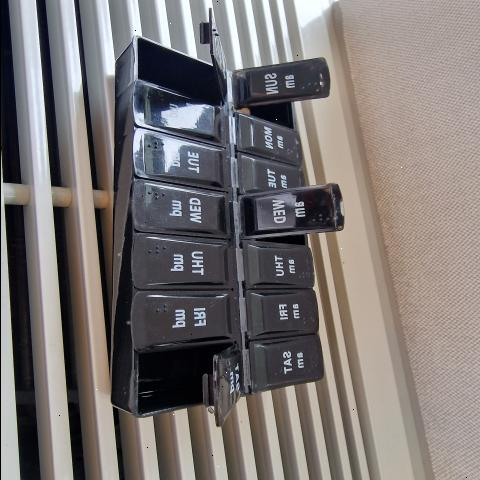Open: (136, 344, 233, 425), (131, 34, 218, 104), (233, 97, 316, 125), (248, 234, 308, 245)
